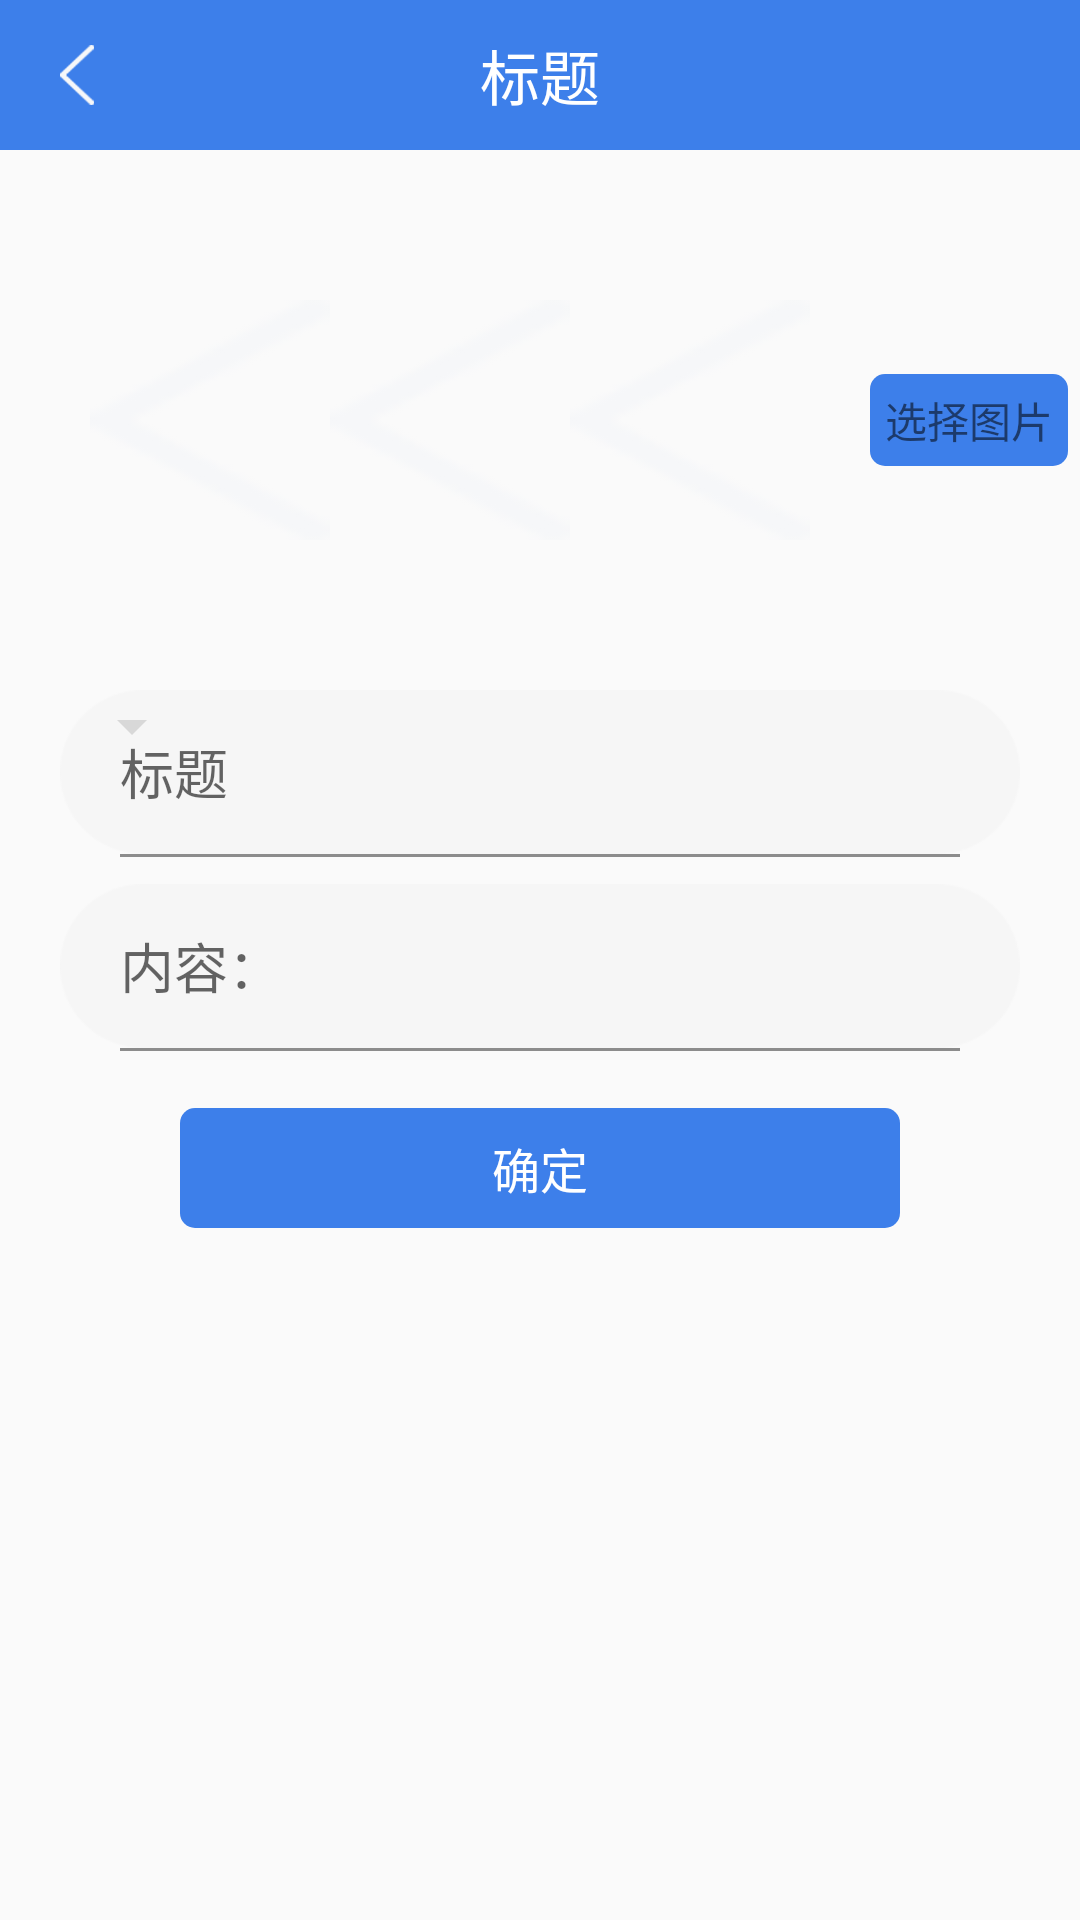

Icon bounding boxes for this 1080 x 1920 phone screenshot, format [x1, y1, x2, y2]:
back: [60, 45, 94, 105]
